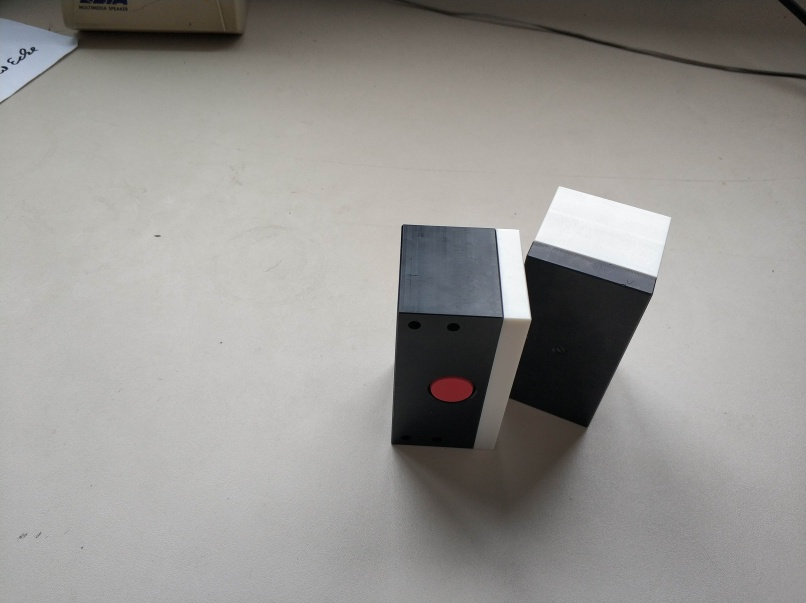white+black+red: (392, 222, 533, 460)
